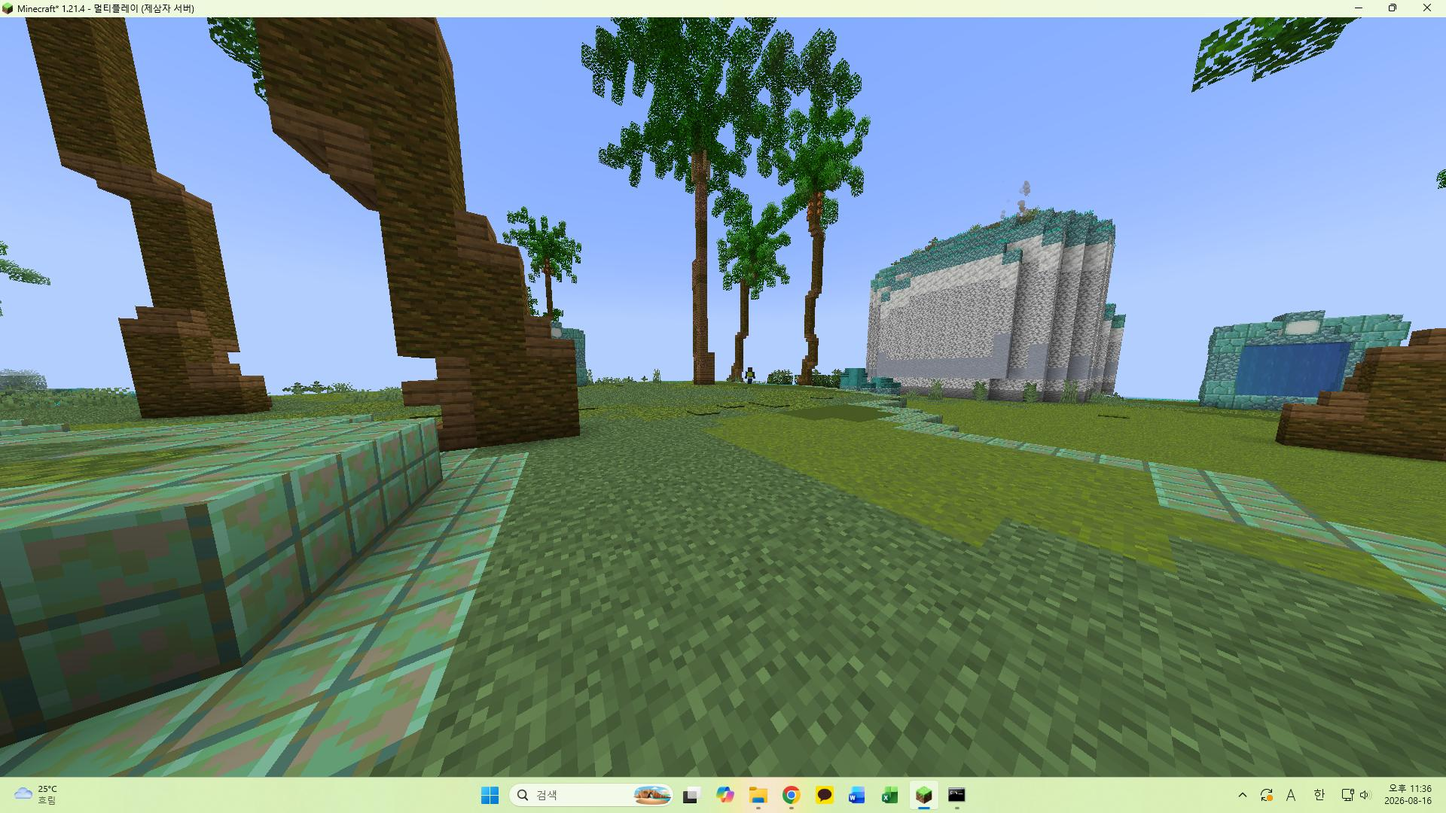Guardian: (745, 366, 755, 383)
